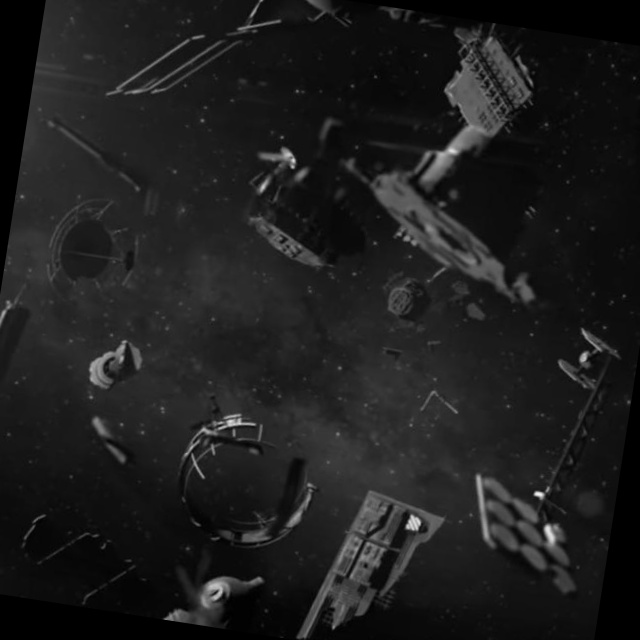large_debris: (316, 5, 584, 361), (451, 298, 640, 624), (91, 0, 363, 144), (152, 398, 349, 571), (227, 101, 372, 296), (297, 472, 455, 640), (27, 193, 166, 312), (19, 113, 173, 214), (0, 505, 138, 613), (151, 532, 283, 636), (0, 272, 42, 444), (71, 328, 151, 408), (78, 409, 148, 476), (410, 379, 463, 442)
